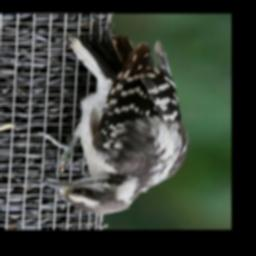Woodpecker: (35, 29, 189, 215)
